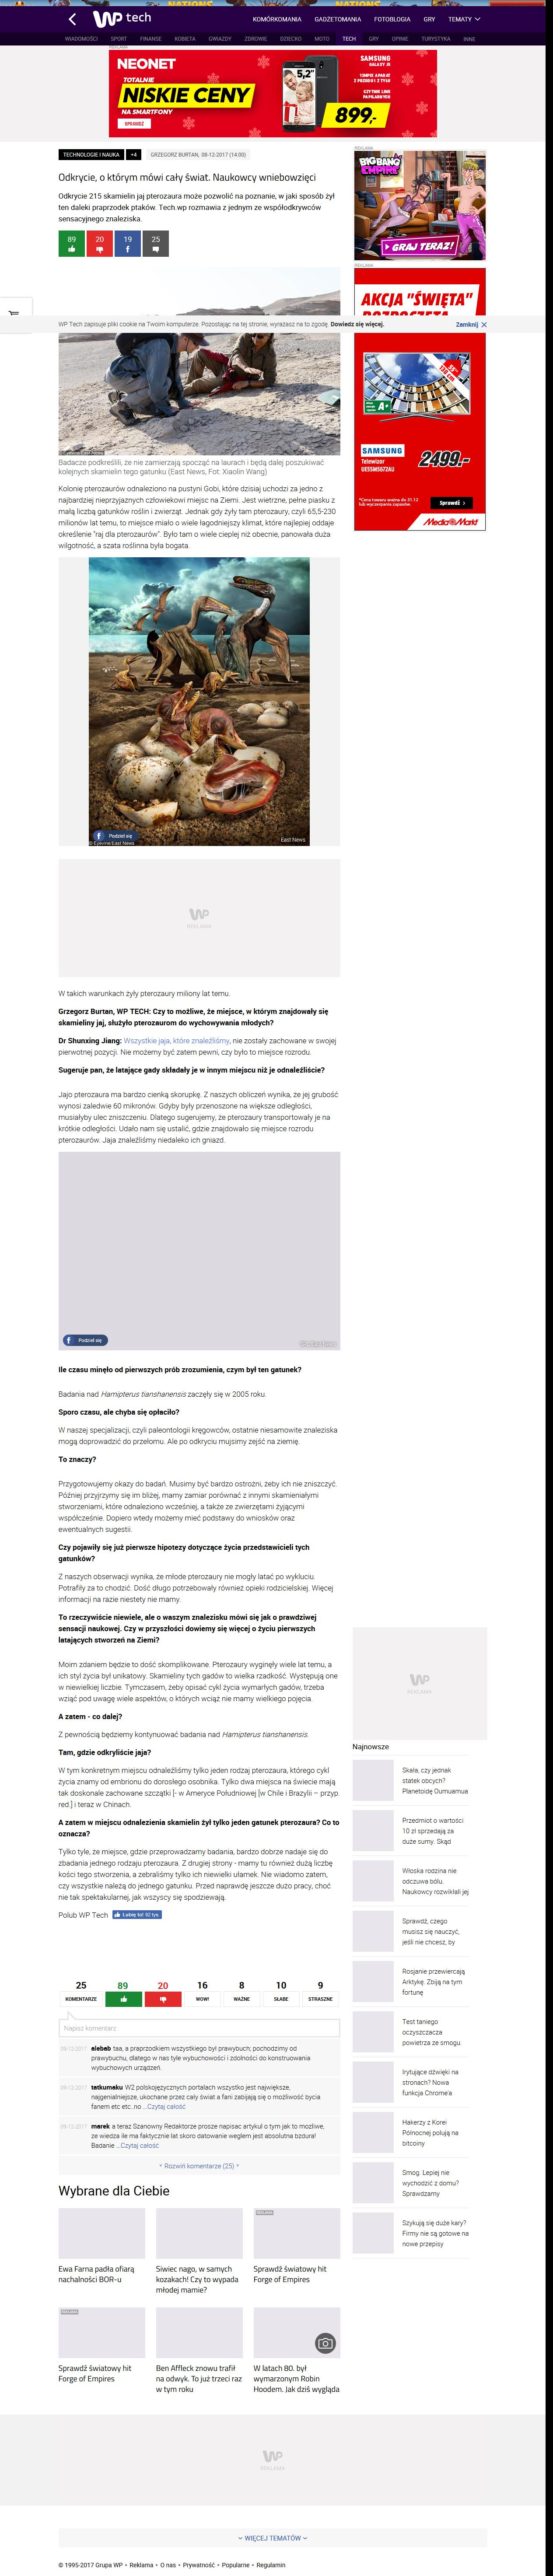title: (57, 172, 317, 182)
